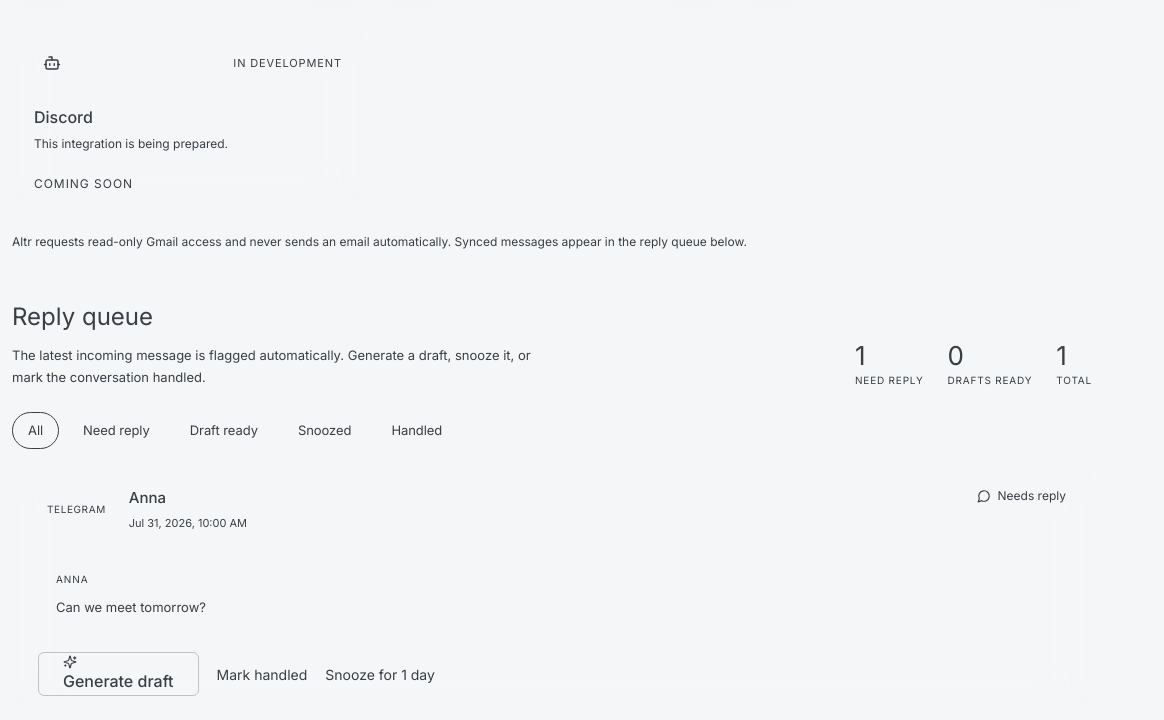
Test case: ConnectionsView › persists the handled state instead of removing the conversation
(page scrolled)
Expected: the heading "Anna" is shown, x1=129 y1=488 x2=166 y2=507
Step 1. Click the button "Mark handled" → (262, 674), box x1=217 y1=664 x2=307 y2=685
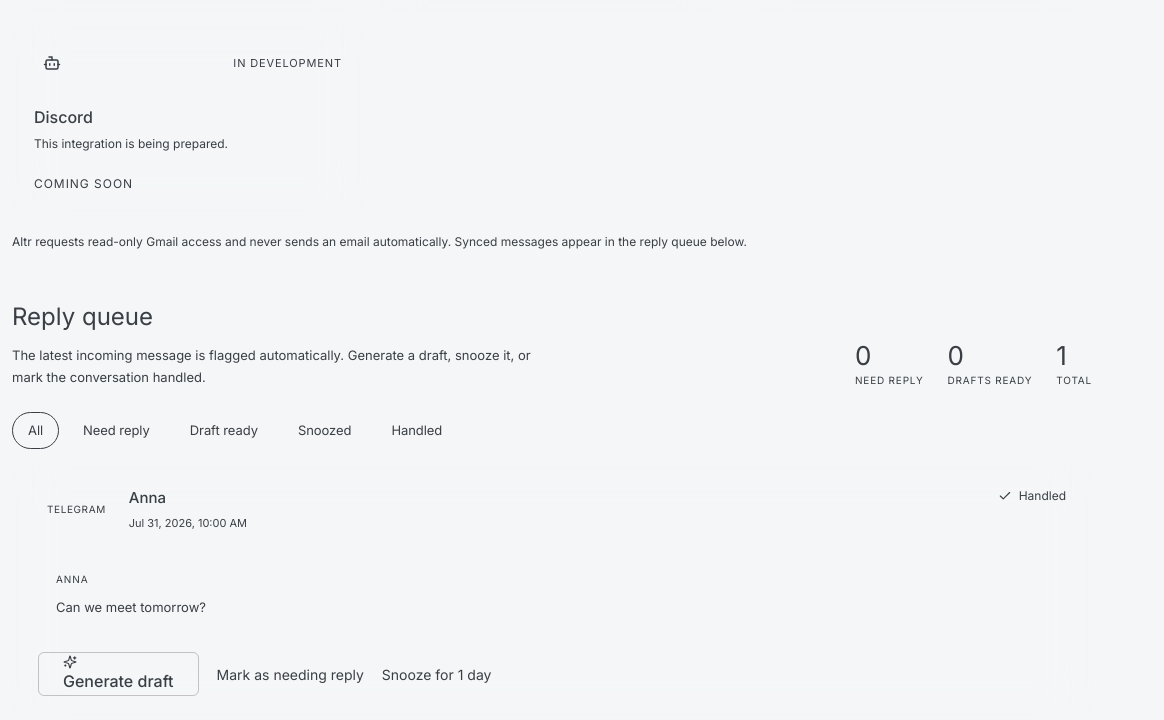
Expected: the heading "Anna" is shown, x1=129 y1=488 x2=166 y2=507
Expected: the text "Handled" is shown, x1=998 y1=487 x2=1066 y2=505
